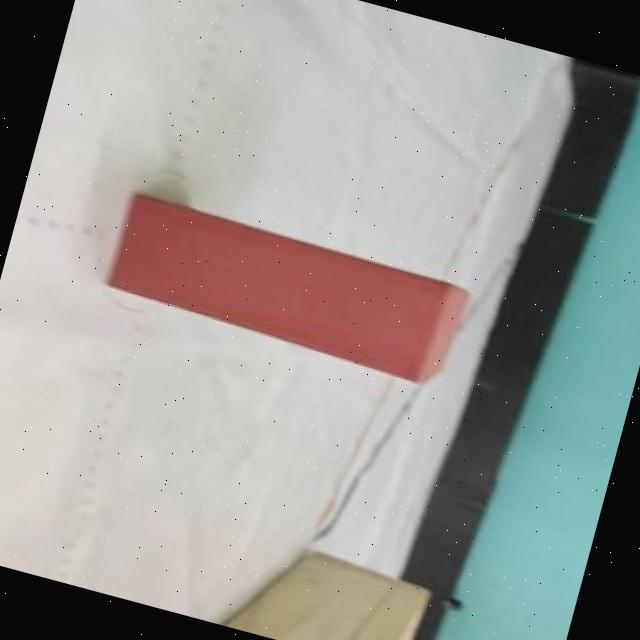redbox: (101, 193, 474, 388)
